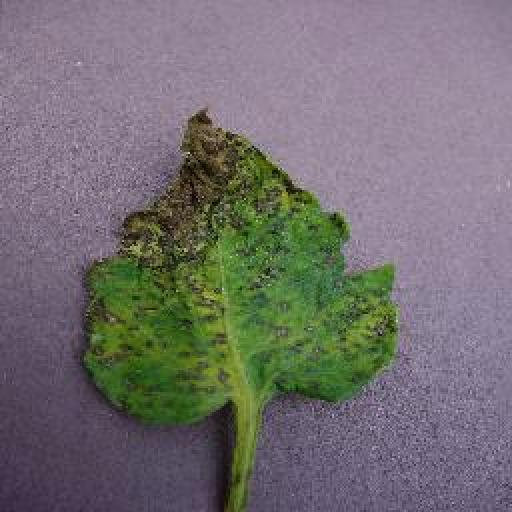disease_tomato: (82, 106, 402, 424)
